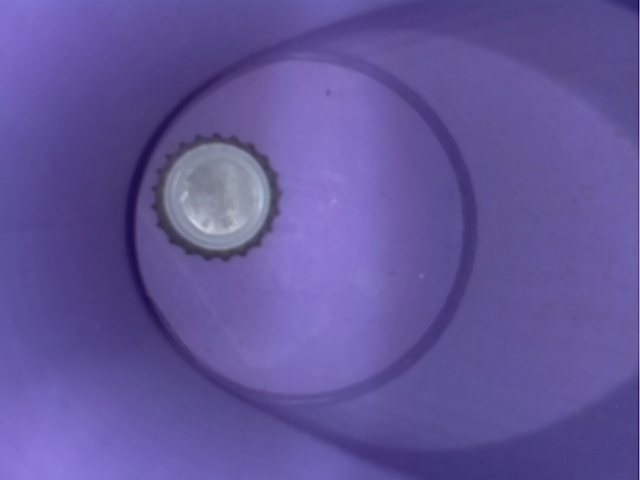capsule: (136, 120, 302, 271)
